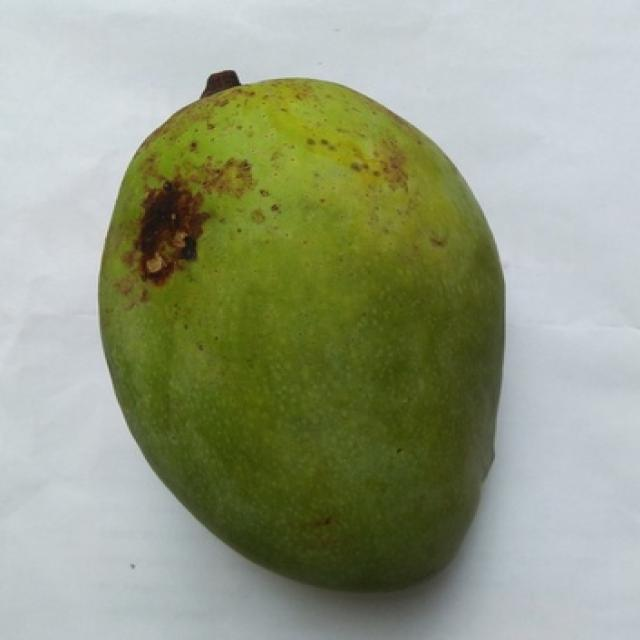Mango: (100, 76, 504, 588)
